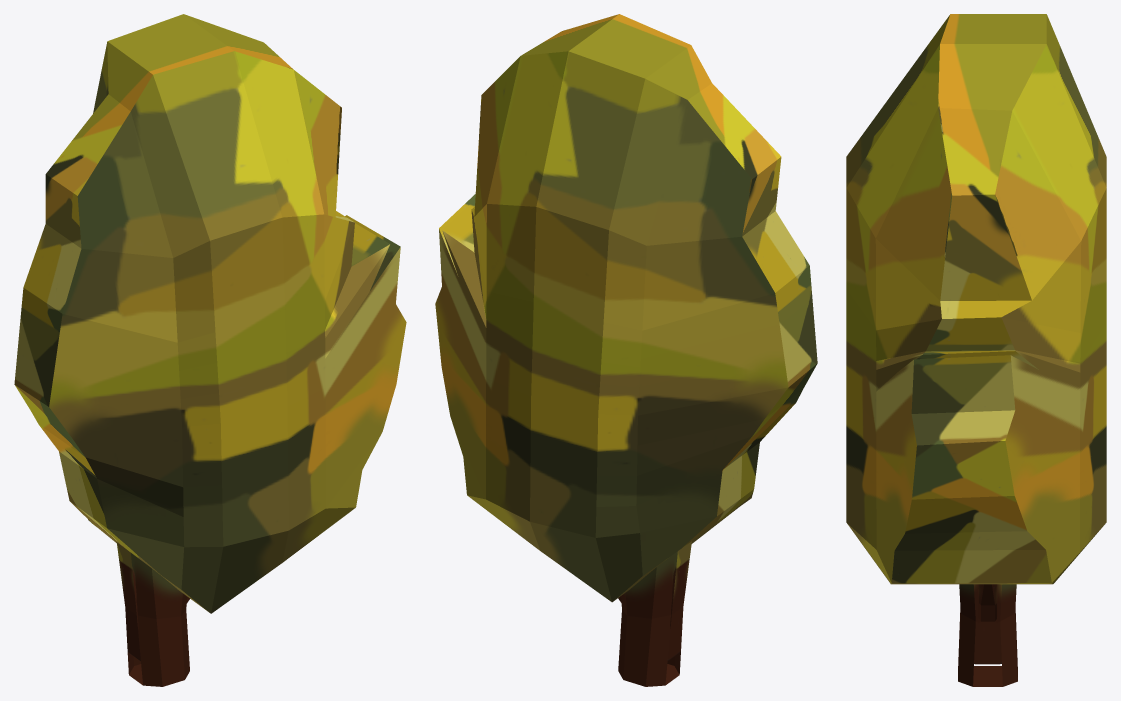
Rendered from tree.fbx.
3 views of the same model, side by side, from view 1: azimuth 30°, elevation 25°; view 2: azimuth 150°, elevation 25°; view 3: azimuth 270°, elevation 25° (orthographic). The views are drawn at different scales.
Parts seen in each view (by area): view 1: tree; view 2: tree; view 3: tree.
Part boxes in pixels (box(x1,y1,x2,y2)): tree: box(14, 14, 406, 686); tree: box(435, 14, 817, 686); tree: box(846, 14, 1106, 686).
Bounding box in the file's own units: 271 × 458 × 163.
